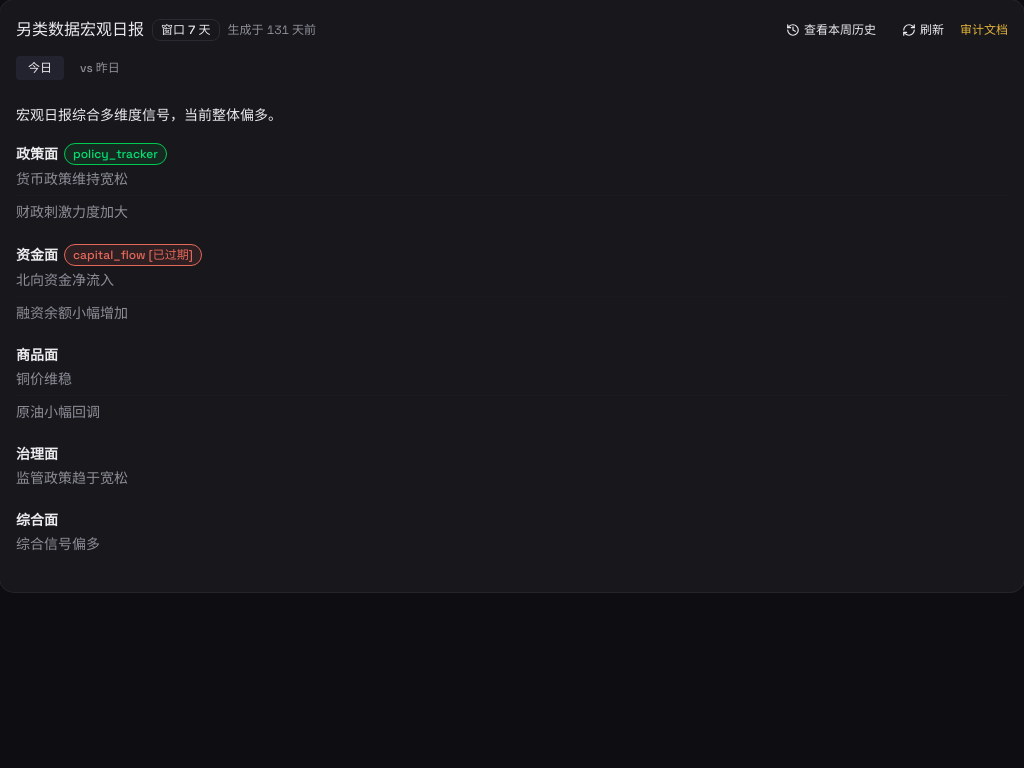
Test: MacroBriefingTile › shows cold-start notice when has_baseline is false
What coordinates should you click on to do the following:
click the tab with test id "macro-briefing-tab-delta"
I would click on:
 (100, 68)
Its box is [68,56,132,80].
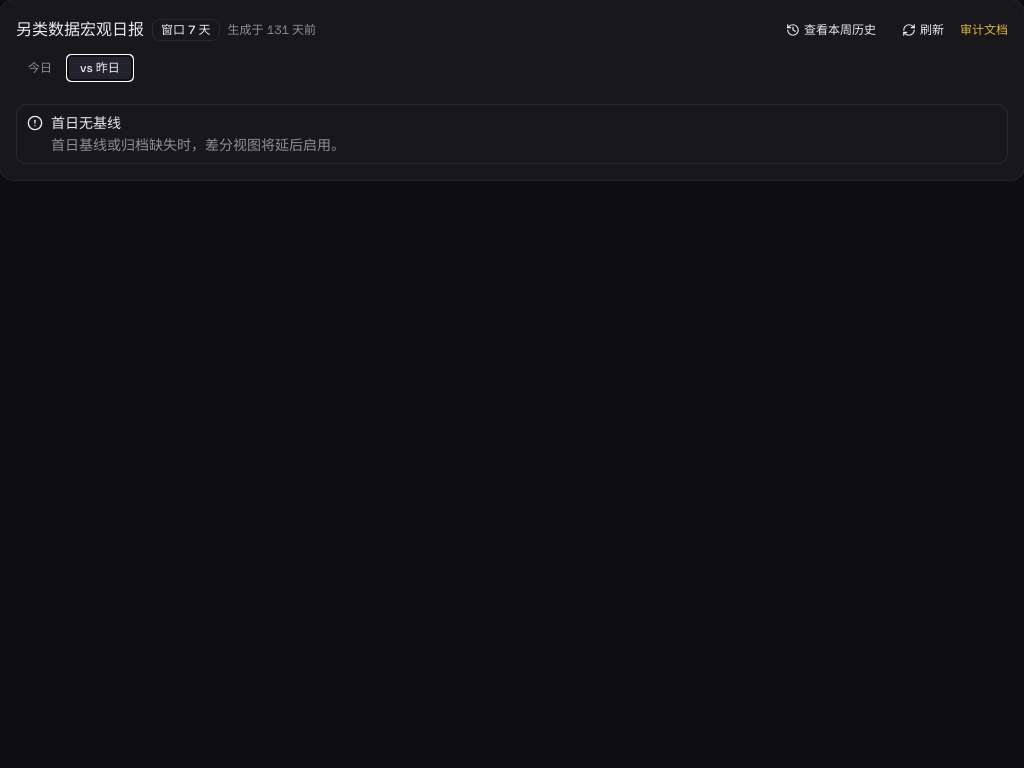
Expected: the message "首日无基线 首日基线或归档缺失时，差分视图将延后启用。" is shown, [16,104,1008,164]
